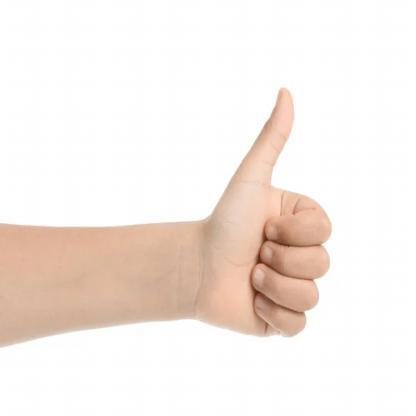thumb_up: (207, 81, 334, 344)
